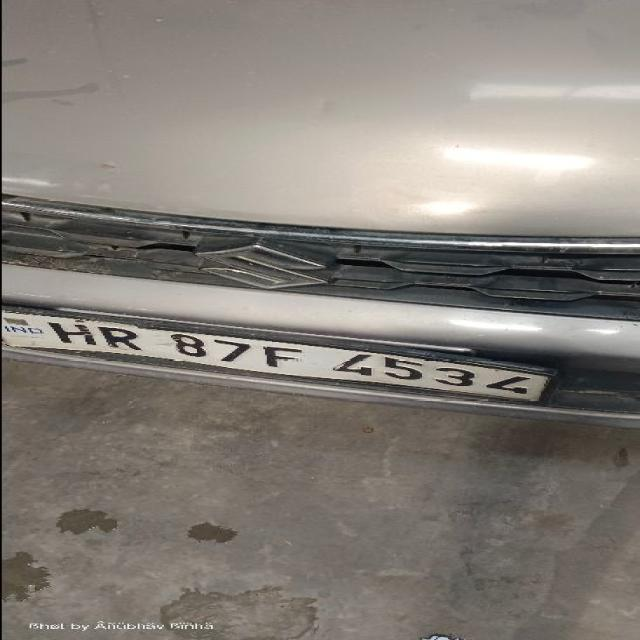license_plate: (1, 302, 562, 408)
